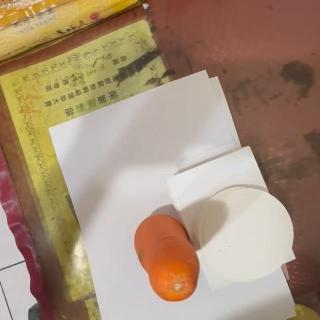carrot: (133, 214, 201, 303)
